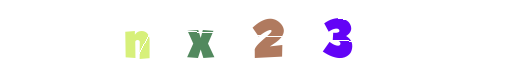2: (215, 0, 295, 80)
3: (299, 0, 379, 80)
N: (108, 0, 188, 80)
X: (202, 0, 282, 80)
